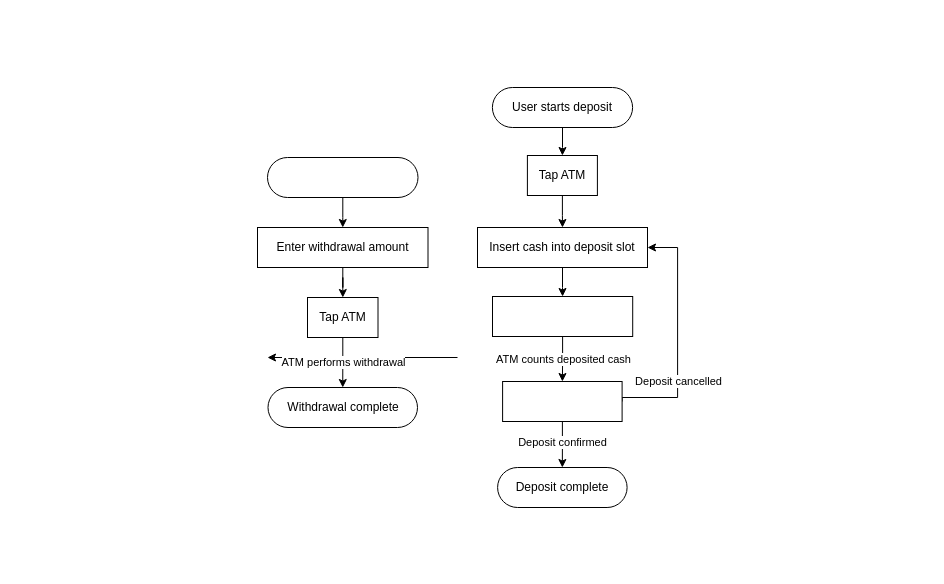
This 944x584 diagram has some shape labels left out. Each missing label, with the centre of its shape:
"Initiate cash counting" belongs at [562,316].
"Review deposit" belongs at [562,401].
"User starts withdrawal" belongs at [342,177].
